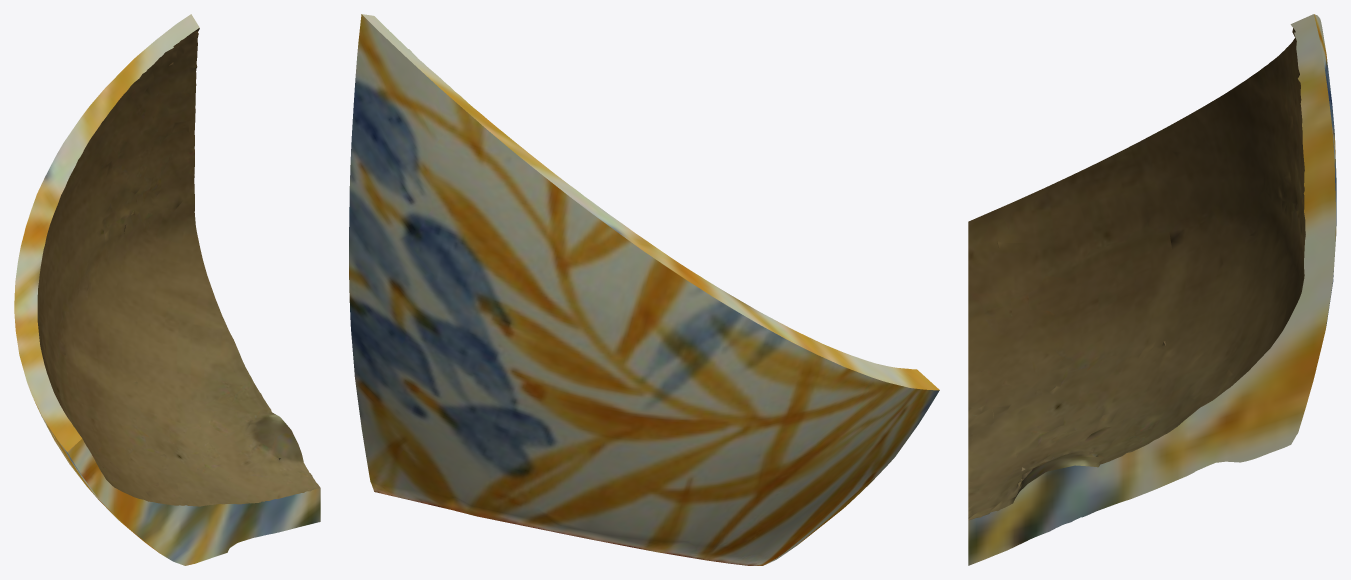
The picture shows the model from 3 angles, left to right: view 1: azimuth 30°, elevation 25°; view 2: azimuth 150°, elevation 25°; view 3: azimuth 270°, elevation 25°; orthographic projection. The views are drawn at different scales.
Parts seen in each view (by area): view 1: Mesh_0.010; view 2: Mesh_0.010; view 3: Mesh_0.010.
Boxes of the visible parts, left/top/right/bottom form: Mesh_0.010: left=14, top=14, right=320, bottom=565; Mesh_0.010: left=349, top=14, right=939, bottom=565; Mesh_0.010: left=968, top=14, right=1336, bottom=565.
Size of the model in its own units: 0.0604 by 0.0959 by 0.0565.
1 material, 1 textured.
